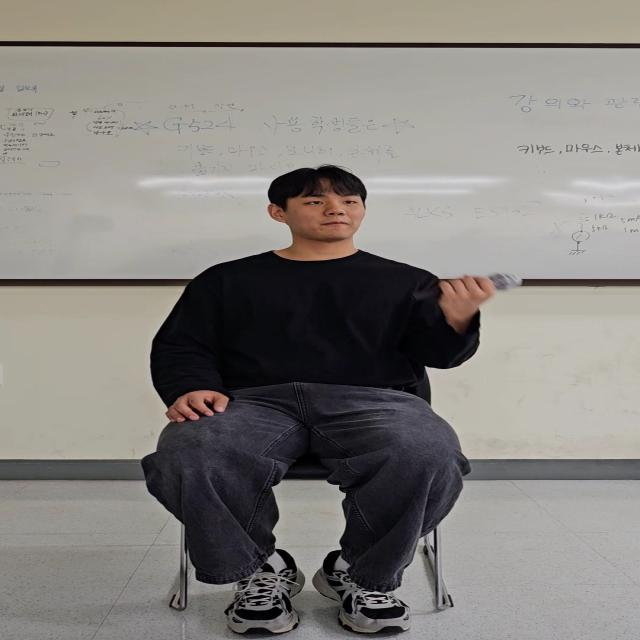curl: (376, 256, 526, 379)
